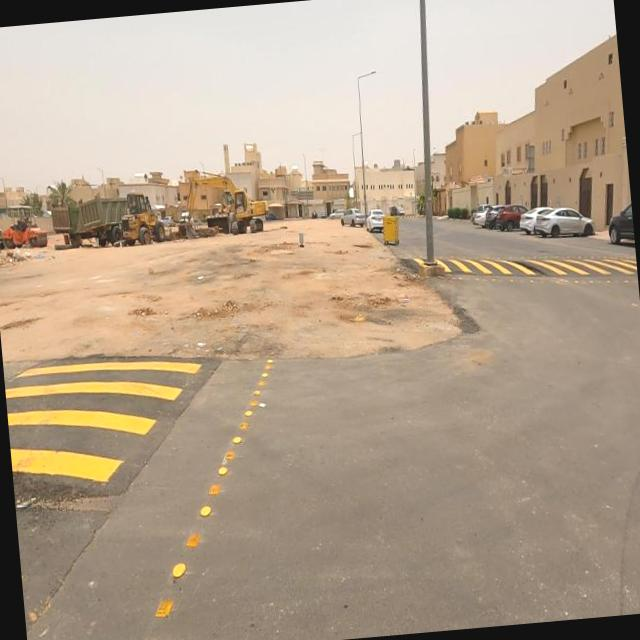debris: (175, 314, 238, 374), (174, 248, 232, 312), (275, 201, 321, 277), (244, 394, 278, 423)
